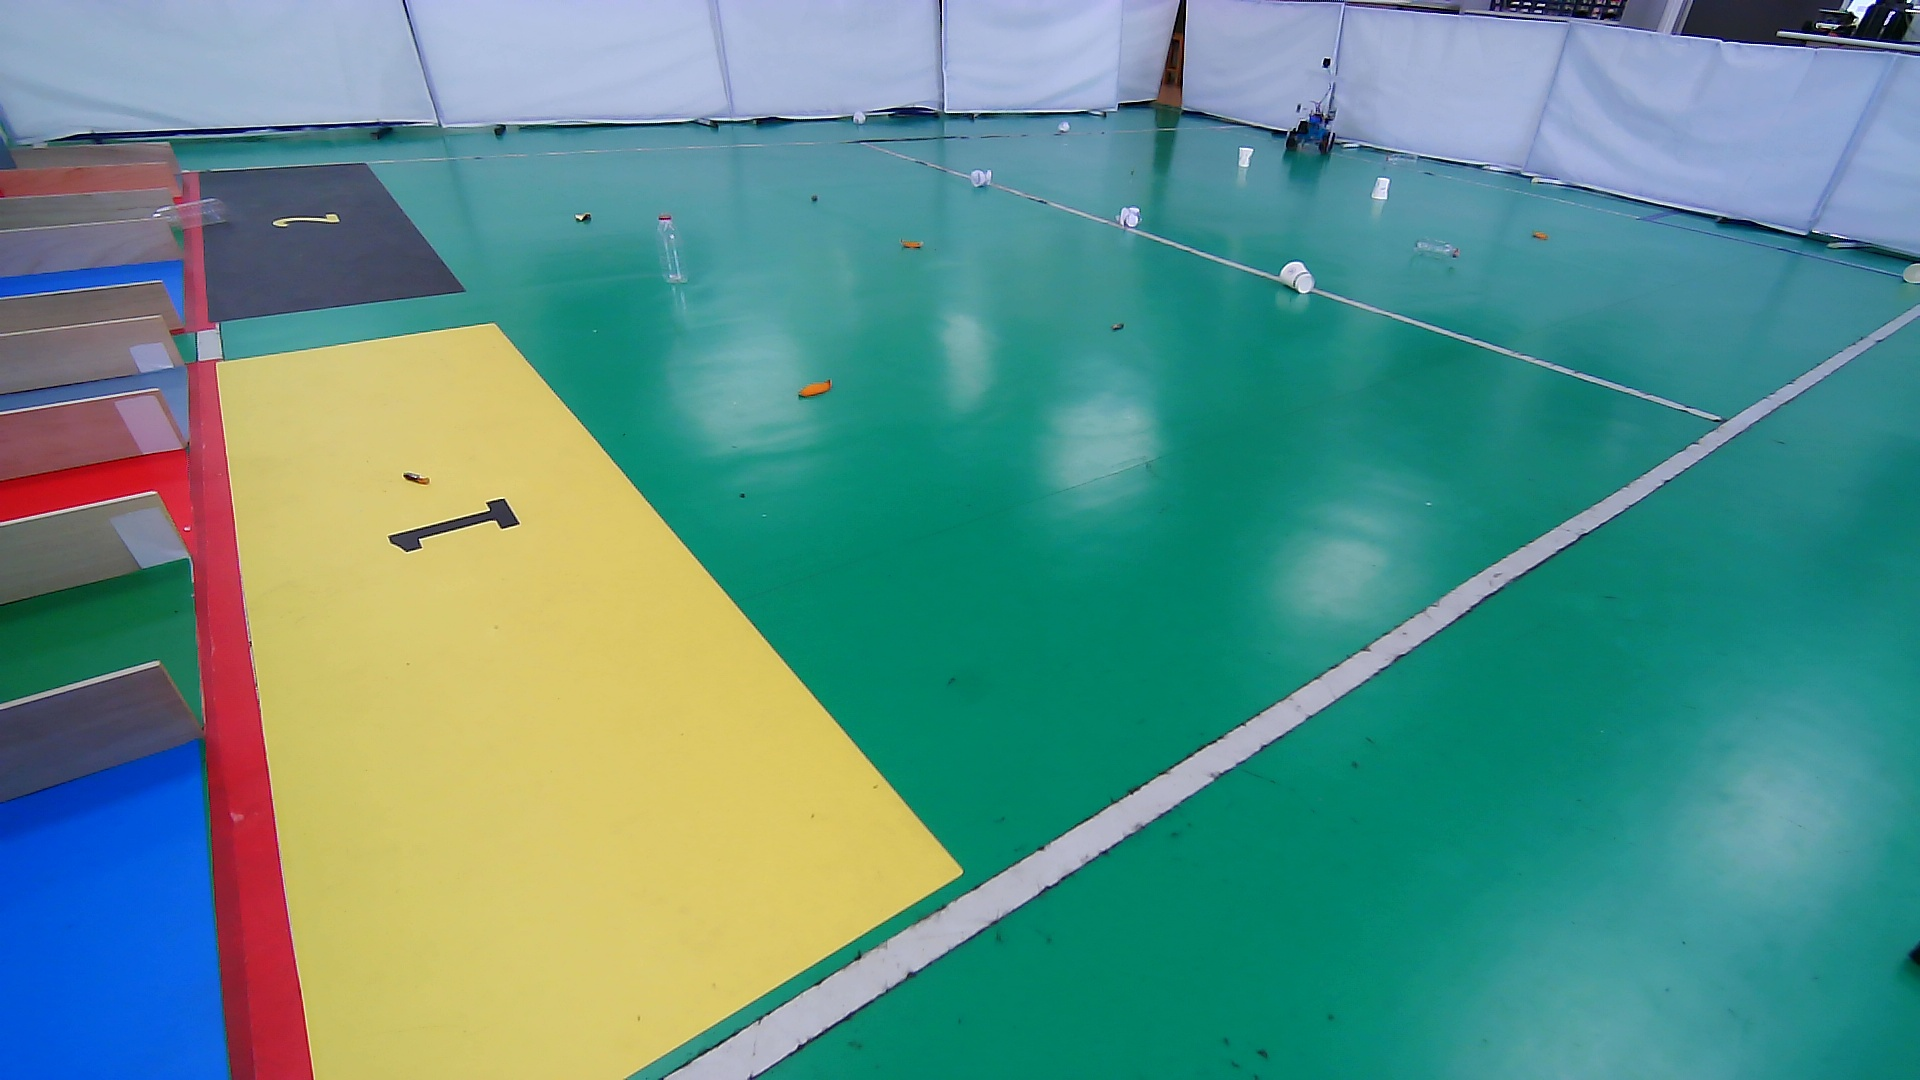battery: (397, 465, 436, 492), (1106, 316, 1130, 336), (806, 190, 825, 206)
bottle: (651, 210, 694, 289), (150, 195, 229, 229), (1412, 231, 1460, 262), (1385, 152, 1420, 167)
orangepeel: (794, 375, 833, 402), (899, 235, 927, 252), (572, 210, 593, 225), (1528, 228, 1549, 243)
papercup: (1276, 258, 1316, 297), (1367, 174, 1394, 202), (1234, 145, 1255, 170)
spitball: (1116, 203, 1145, 231), (968, 165, 996, 189), (851, 108, 866, 127), (1056, 120, 1072, 135)
